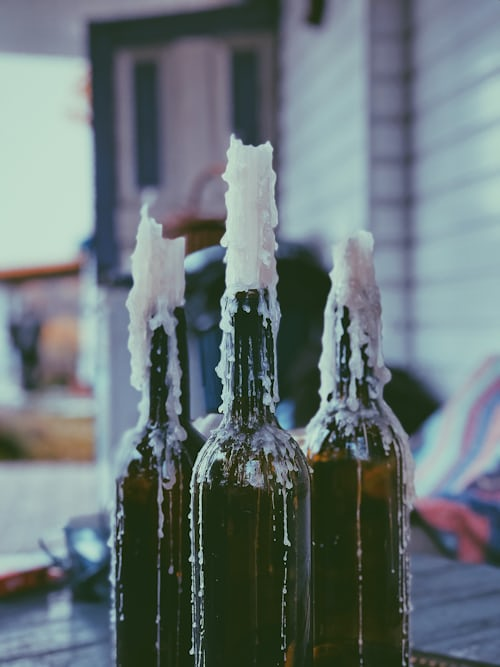Bottle: (92, 138, 422, 662)
